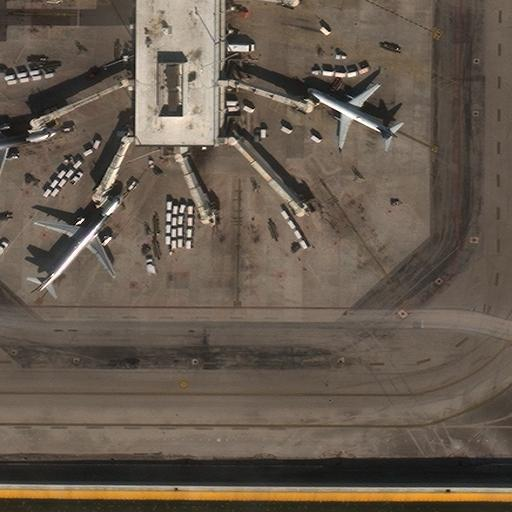Medium Civil Transport: (35, 194, 122, 290), (307, 82, 395, 150), (0, 112, 56, 187)
